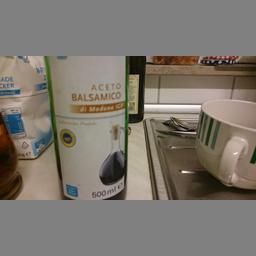vinegar: (42, 52, 132, 198)
